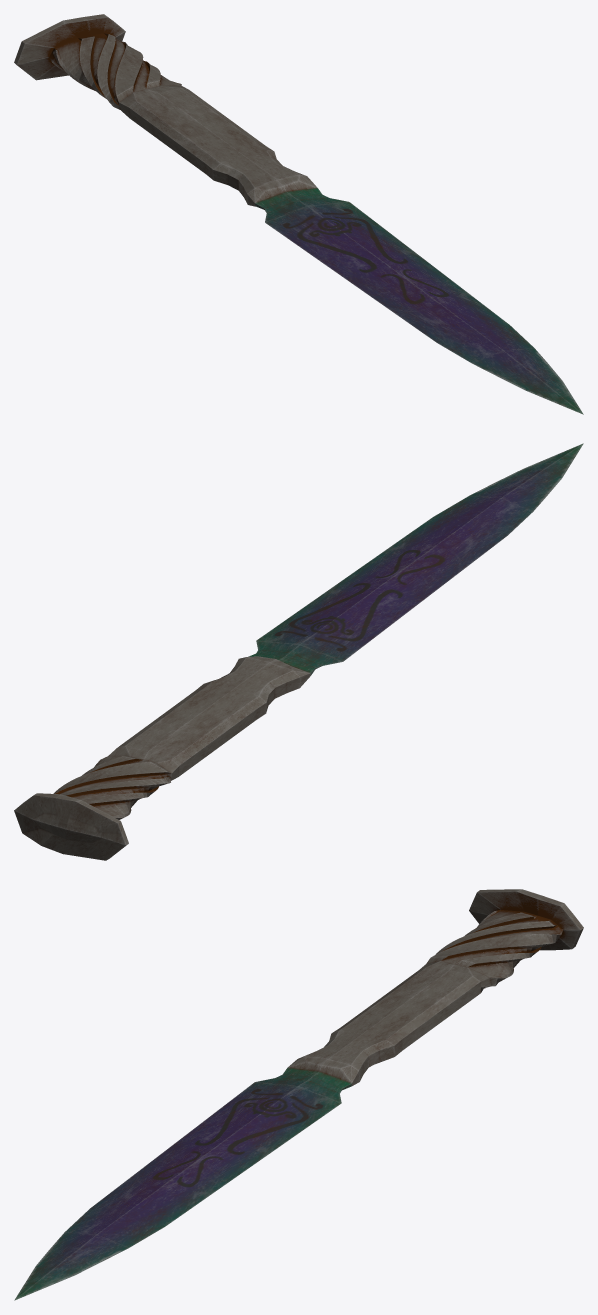
The model's file is knife.glb.
3 views of the same model, one above another, from view 1: azimuth 30°, elevation 25°; view 2: azimuth 150°, elevation 25°; view 3: azimuth 330°, elevation 25° (orthographic). The views are drawn at different scales.
Parts seen in each view (by area): view 1: Knife; view 2: Knife; view 3: Knife.
Part boxes in pixels (bbox=[...]): Knife: bbox=[14, 14, 583, 414]; Knife: bbox=[14, 443, 583, 860]; Knife: bbox=[14, 889, 583, 1300].
Bounding box in the file's own units: 1.59 × 0.7557 × 12.92.
Materials: 1 (1 with a texture image).
